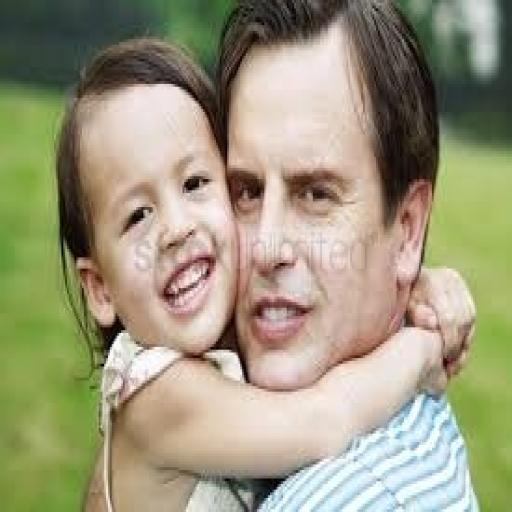hugging: (52, 31, 477, 509)
